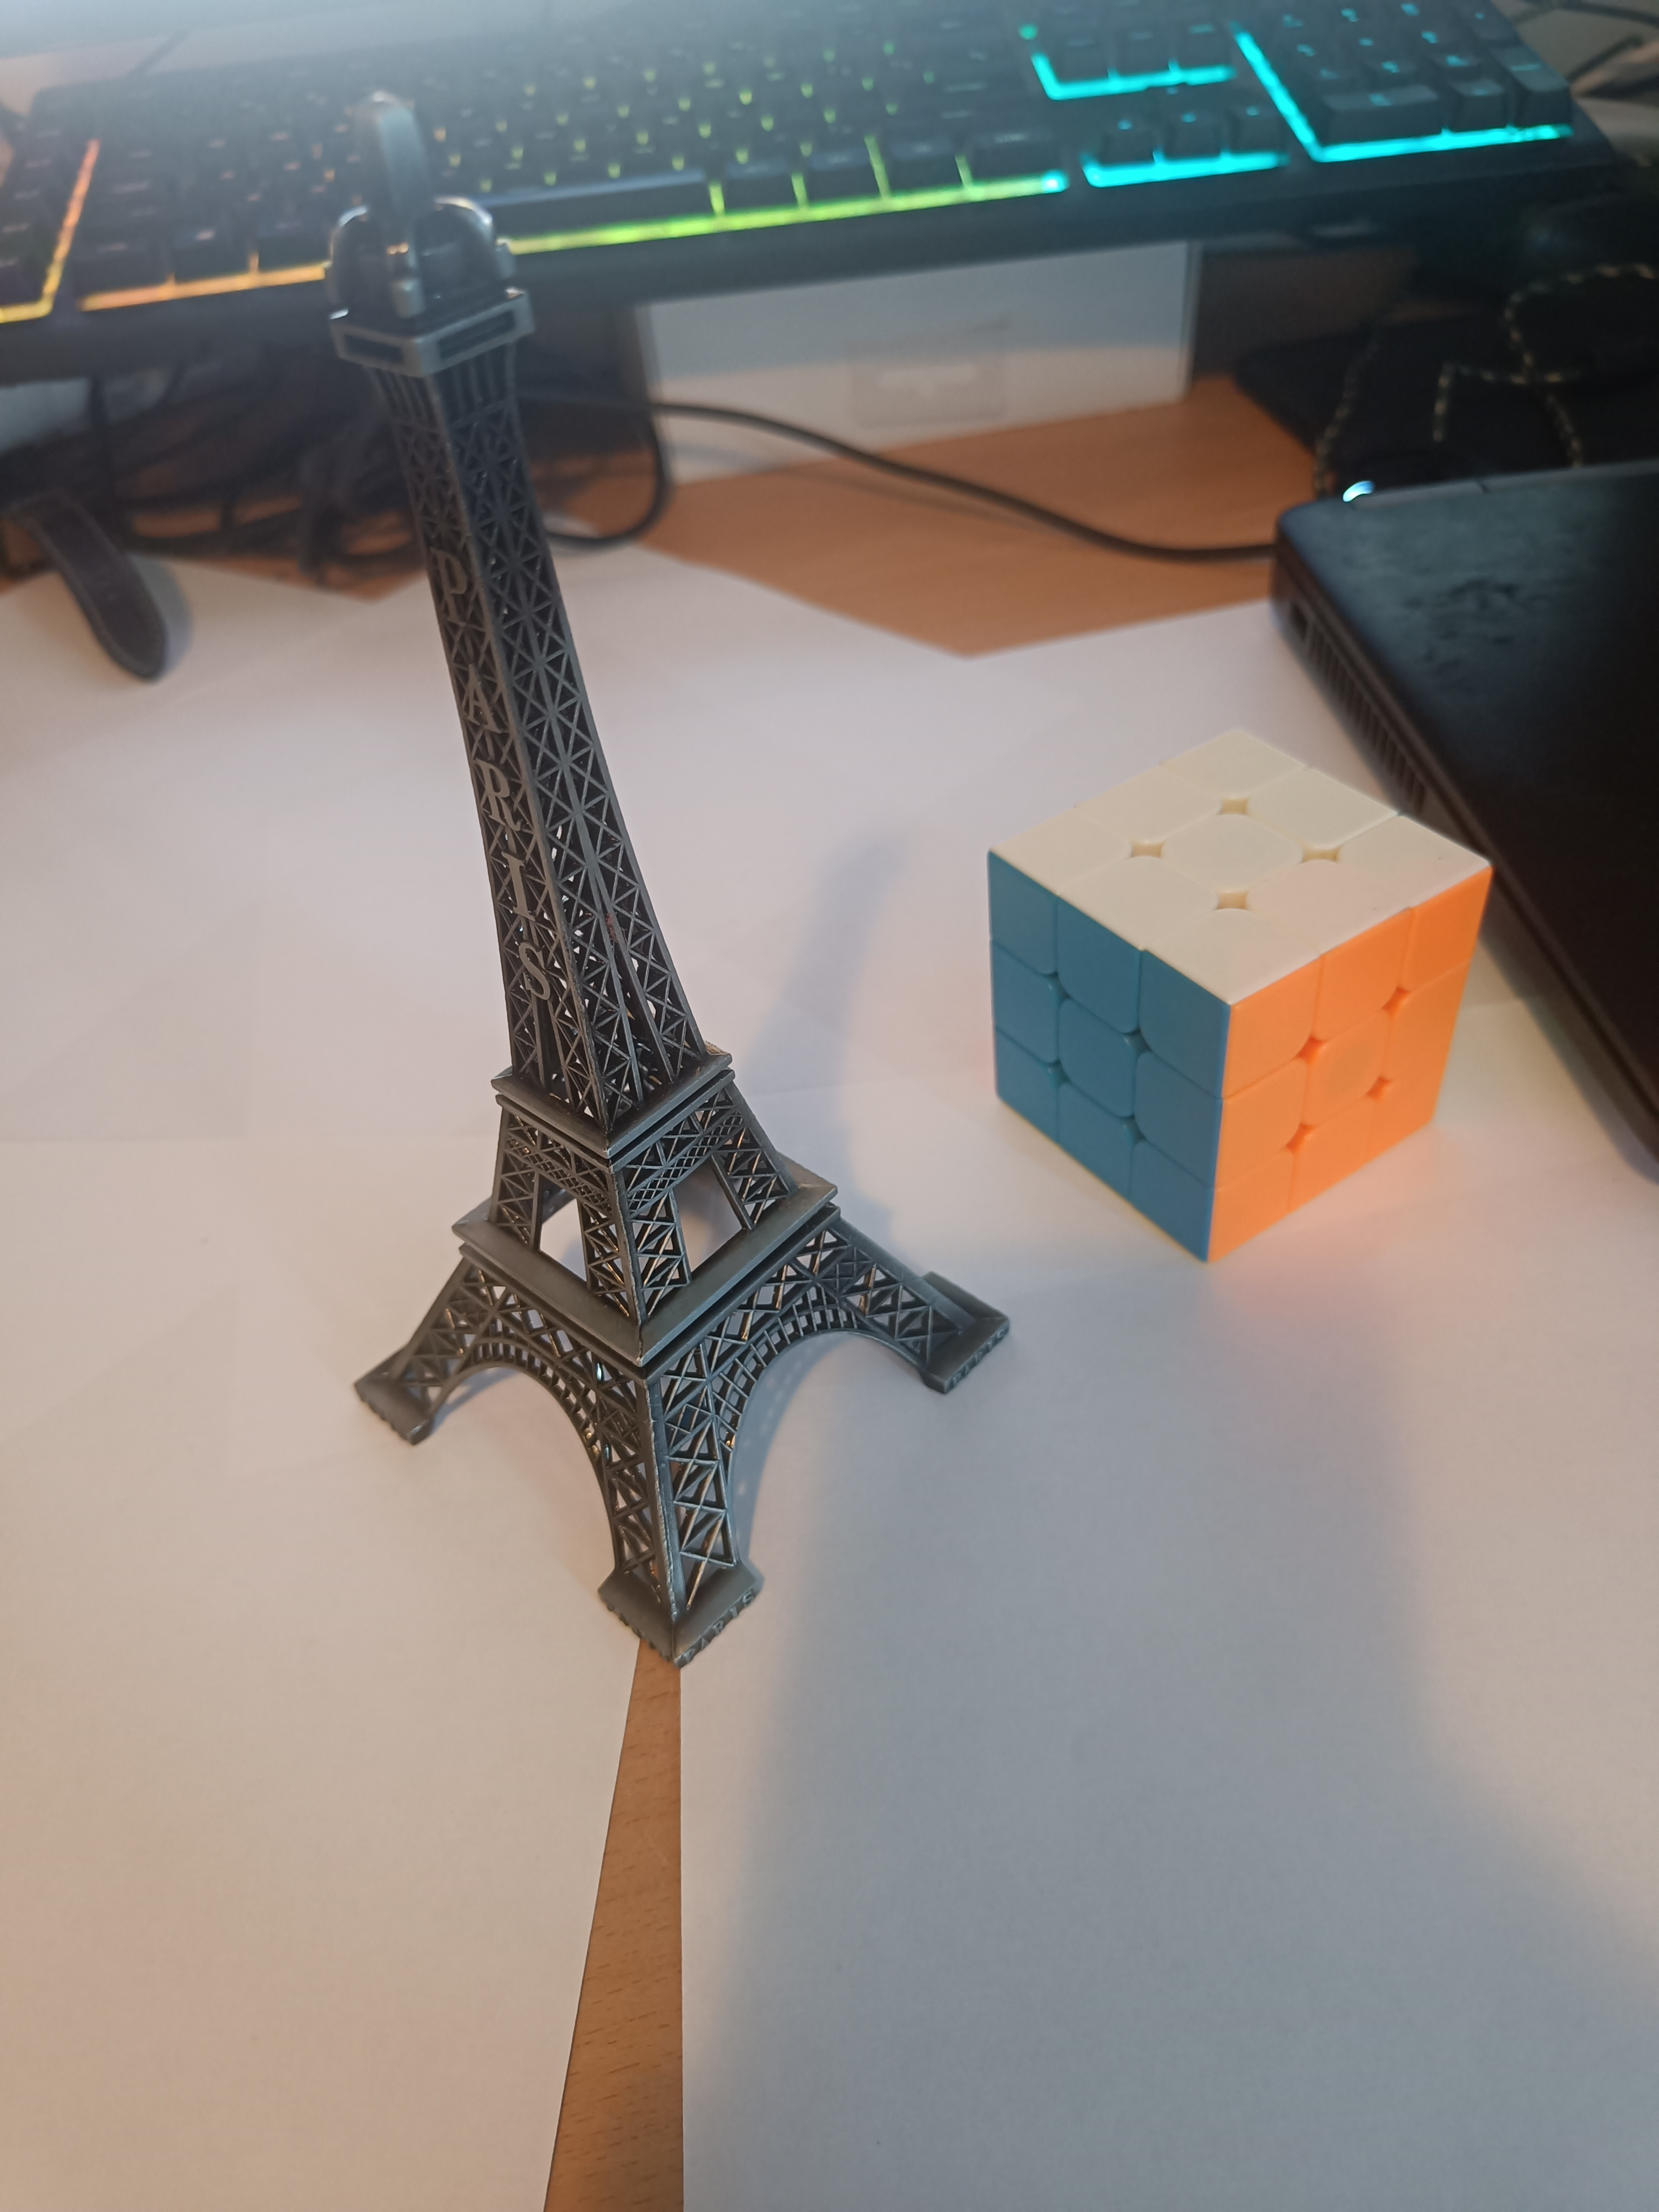Eiffel Tower: (301, 73, 1019, 1665)
Rubiks Cube: (974, 702, 1499, 1264)
